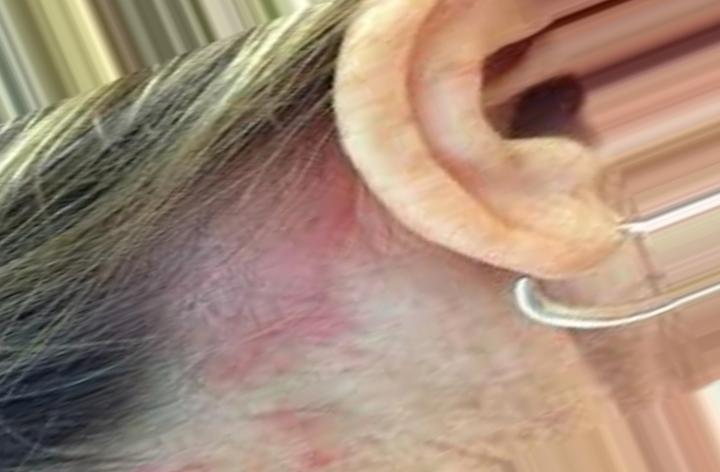Contact Dermatitis: (101, 134, 354, 401)
